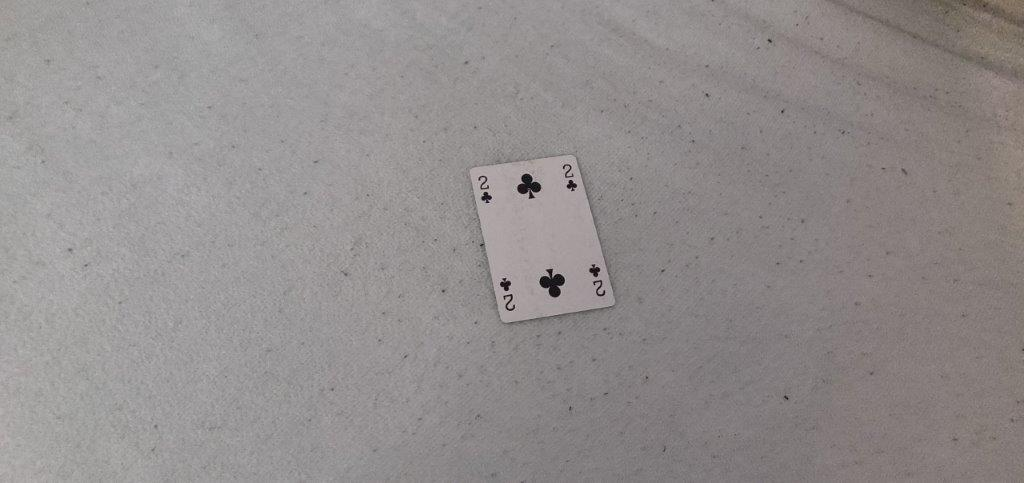2C: (559, 162, 582, 198), (474, 173, 496, 207)
